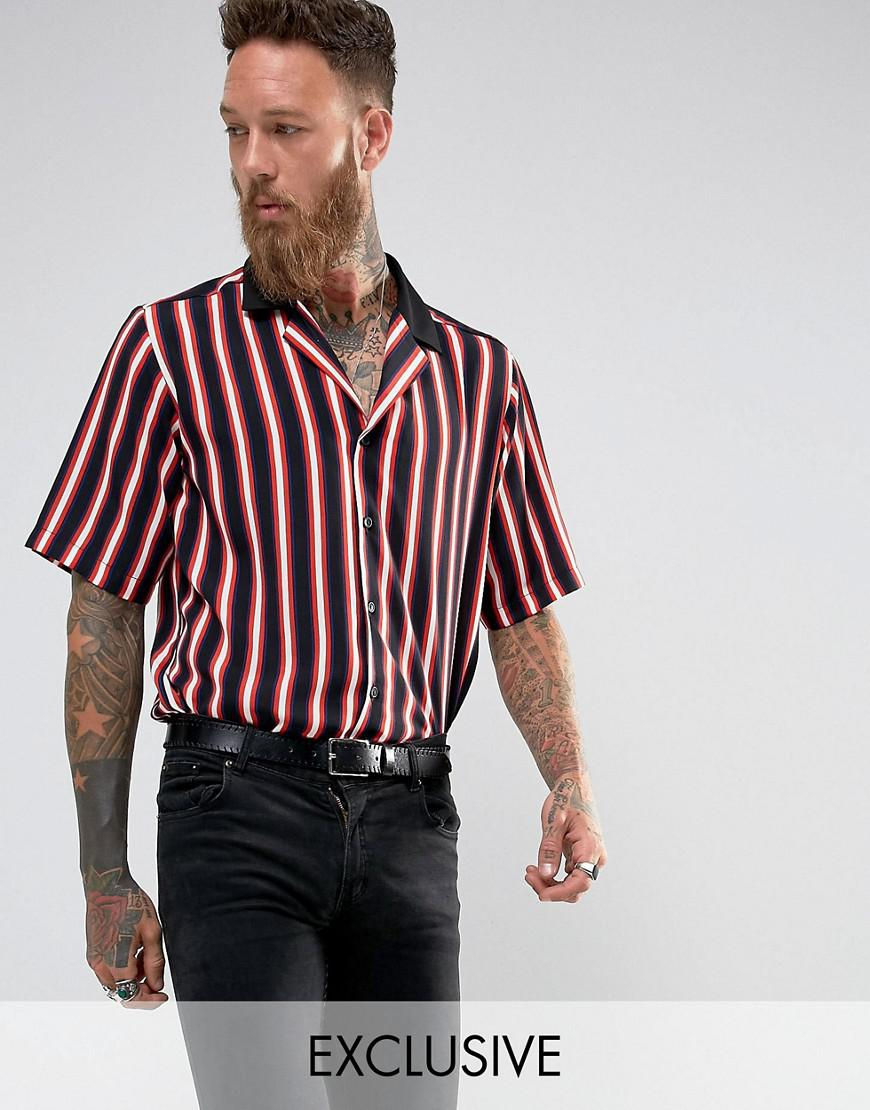teeshirt: (34, 239, 600, 778)
